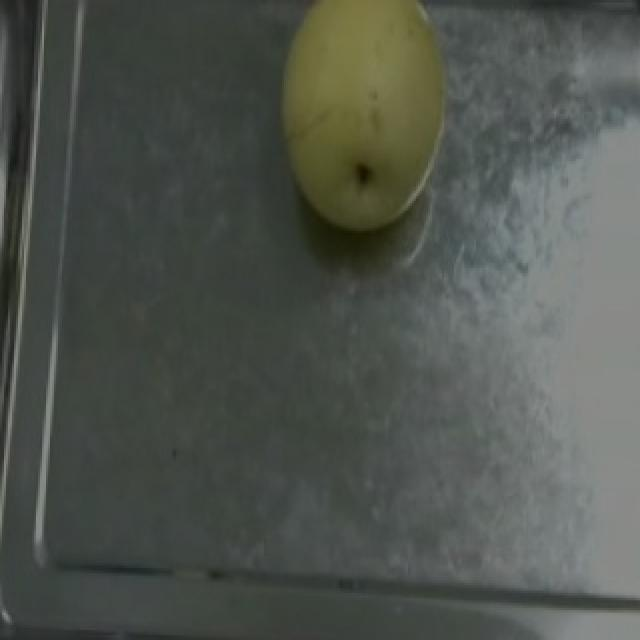Fruit: (264, 0, 472, 246)
